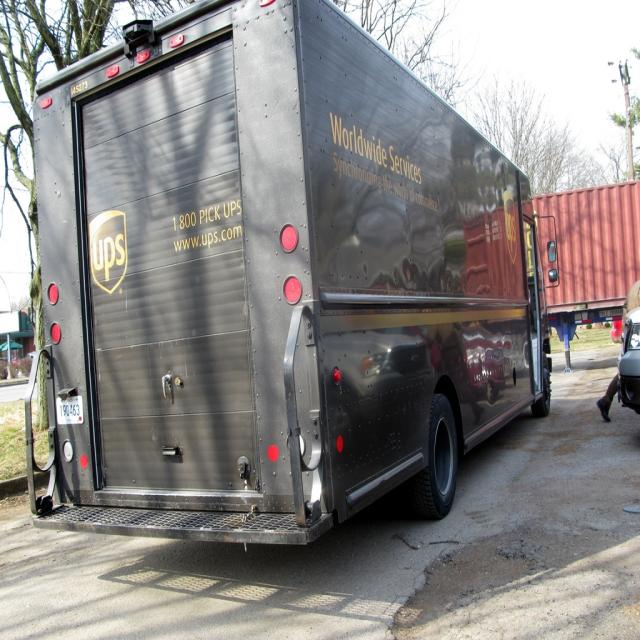ups: (87, 208, 130, 296), (503, 192, 518, 263)
